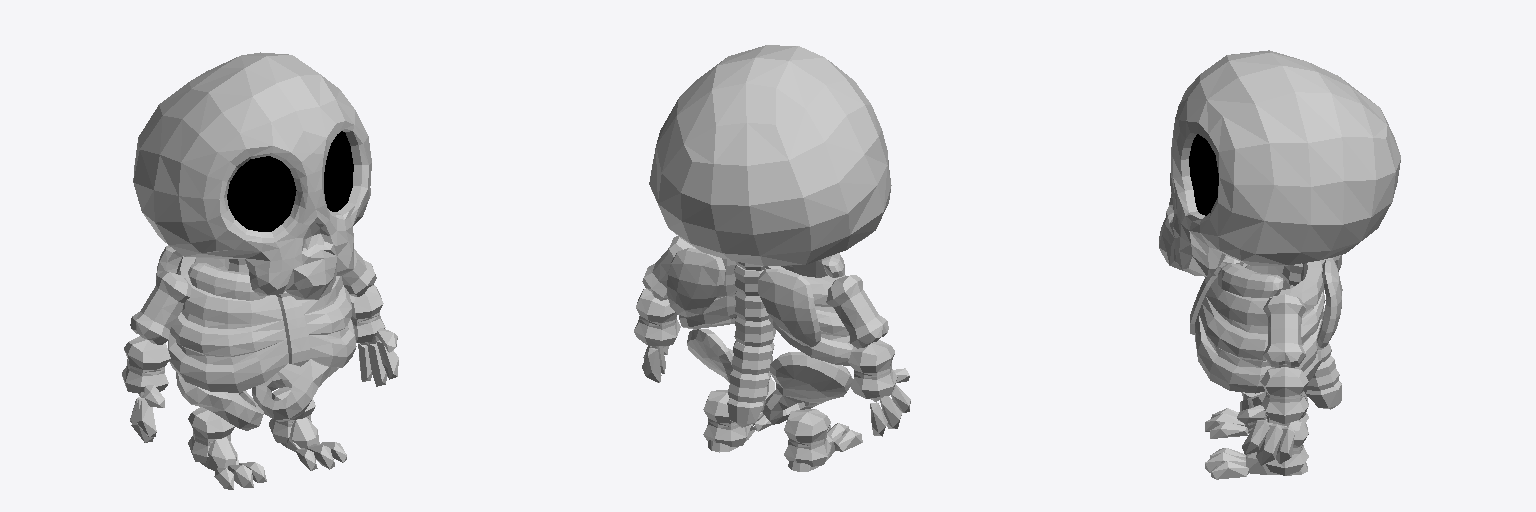
The model's file is PirateSkeleton.obj.
The picture shows the model from 3 angles: view 1: azimuth 30°, elevation 25°; view 2: azimuth 150°, elevation 25°; view 3: azimuth 270°, elevation 25°; orthographic projection.
Visible parts, largest first — view 1: Skeleton_Head.001, Skeleton_Body, Skeleton_Right_Arm, Skeleton_Left_Arm, Skeleton_Right_Foot, Skeleton_Left_Foot; view 2: Skeleton_Head.001, Skeleton_Body, Skeleton_Right_Arm, Skeleton_Left_Arm, Skeleton_Right_Foot, Skeleton_Left_Foot; view 3: Skeleton_Head.001, Skeleton_Body, Skeleton_Left_Arm, Skeleton_Left_Foot, Skeleton_Right_Foot.
Part boxes in pixels (left/top/right/bottom): Skeleton_Head.001: left=133, top=52, right=371, bottom=299; Skeleton_Body: left=156, top=245, right=356, bottom=430; Skeleton_Right_Arm: left=122, top=271, right=191, bottom=442; Skeleton_Left_Arm: left=342, top=249, right=398, bottom=386; Skeleton_Right_Foot: left=188, top=407, right=266, bottom=489; Skeleton_Left_Foot: left=269, top=387, right=346, bottom=470; Skeleton_Head.001: left=649, top=45, right=891, bottom=265; Skeleton_Body: left=667, top=248, right=852, bottom=427; Skeleton_Right_Arm: left=826, top=275, right=910, bottom=436; Skeleton_Left_Arm: left=634, top=236, right=695, bottom=382; Skeleton_Right_Foot: left=784, top=409, right=862, bottom=471; Skeleton_Left_Foot: left=703, top=390, right=772, bottom=452; Skeleton_Head.001: left=1159, top=50, right=1400, bottom=276; Skeleton_Body: left=1190, top=255, right=1342, bottom=426; Skeleton_Left_Arm: left=1237, top=294, right=1308, bottom=465; Skeleton_Left_Foot: left=1205, top=420, right=1308, bottom=479; Skeleton_Right_Foot: left=1205, top=391, right=1308, bottom=438.
Bounding box in the file's own units: 1.76 × 2.52 × 1.41.